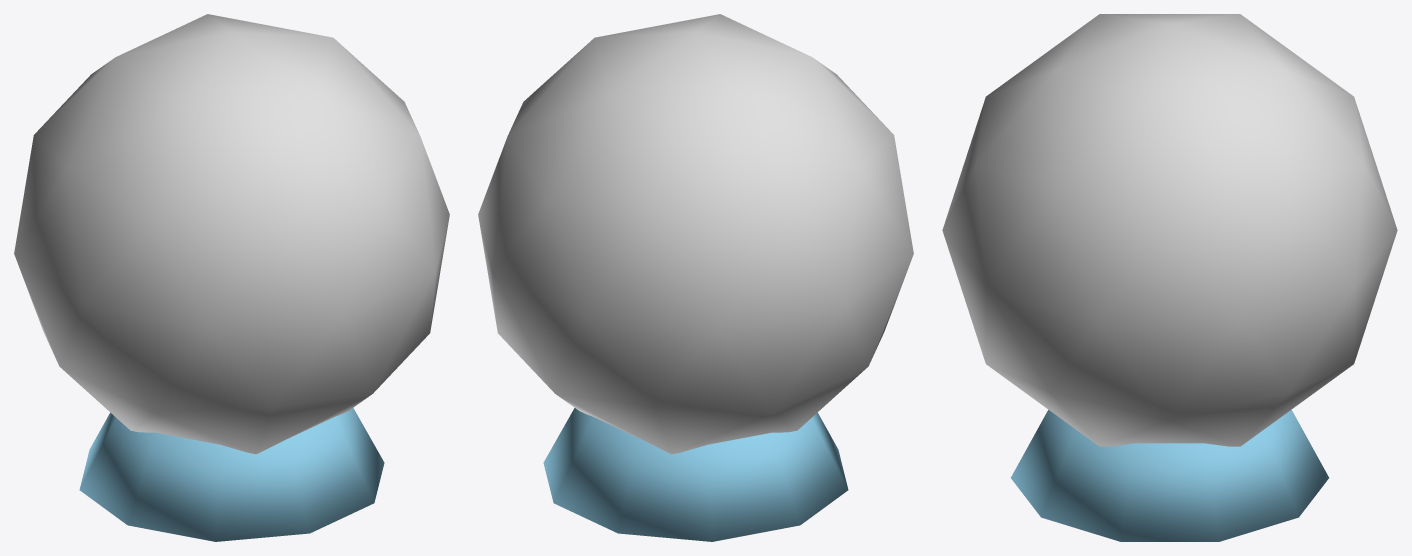
Rendered from last_prism.glb.
3 renders of one model, left to right at view 1: azimuth 30°, elevation 25°; view 2: azimuth 150°, elevation 25°; view 3: azimuth 270°, elevation 25°, orthographic. The views are drawn at different scales.
Parts seen in each view (by area): view 1: last_prism_v0; view 2: last_prism_v0; view 3: last_prism_v0.
Part boxes in pixels (x1,y1,x2,y2): last_prism_v0: [14, 14, 449, 541]; last_prism_v0: [478, 14, 913, 541]; last_prism_v0: [942, 14, 1397, 541].
Size of the model in its own units: 0.1902 by 0.22 by 0.2.
